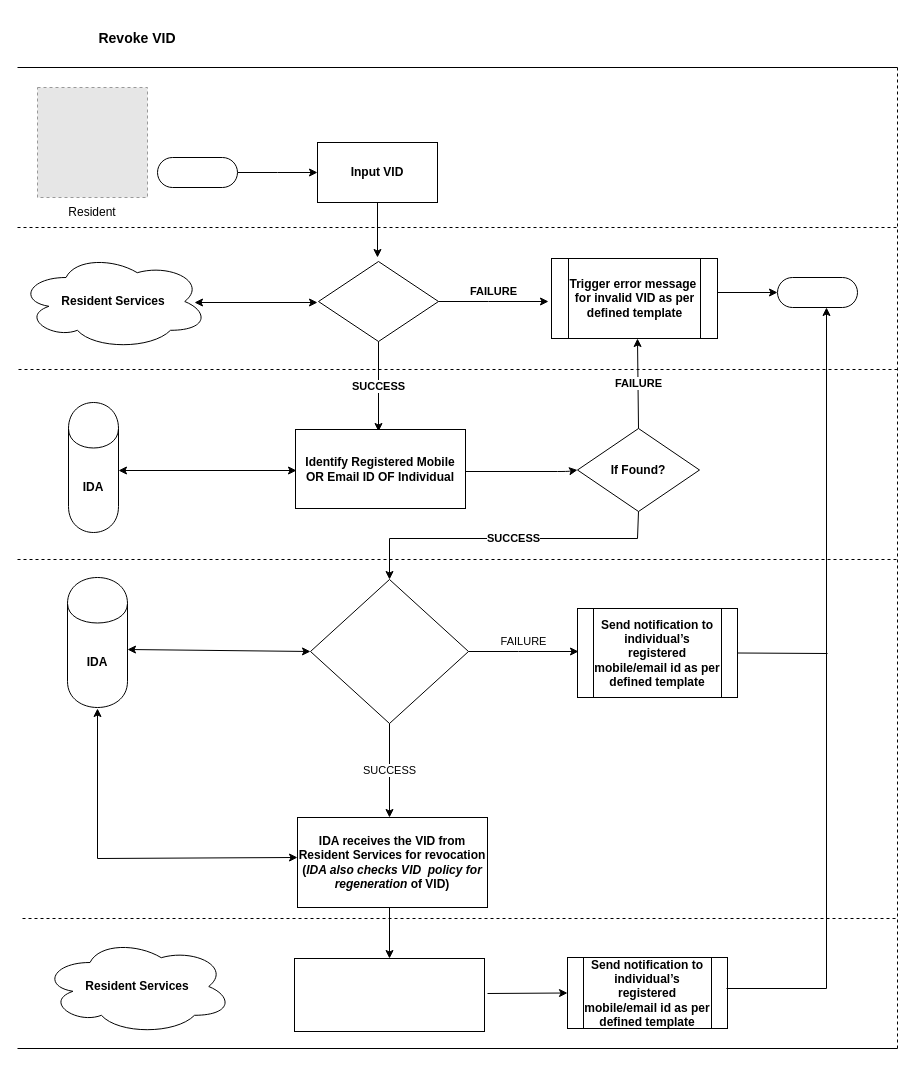
The diagram is 917 pixels wide and 1067 high, and some of its shapes have lost their labels. Grey dashed boxes stand in for pictures. Each missing label, with the centre of its shape:
"END" belongs at pixel 817 292.
"Perform OTP AUTH" belongs at pixel 389 651.
"Resident Services receives the confirmation for VID revocation from IDA" belongs at pixel 389 995.
"Start" belongs at pixel 197 172.
"Validate VID" belongs at pixel 378 301.
